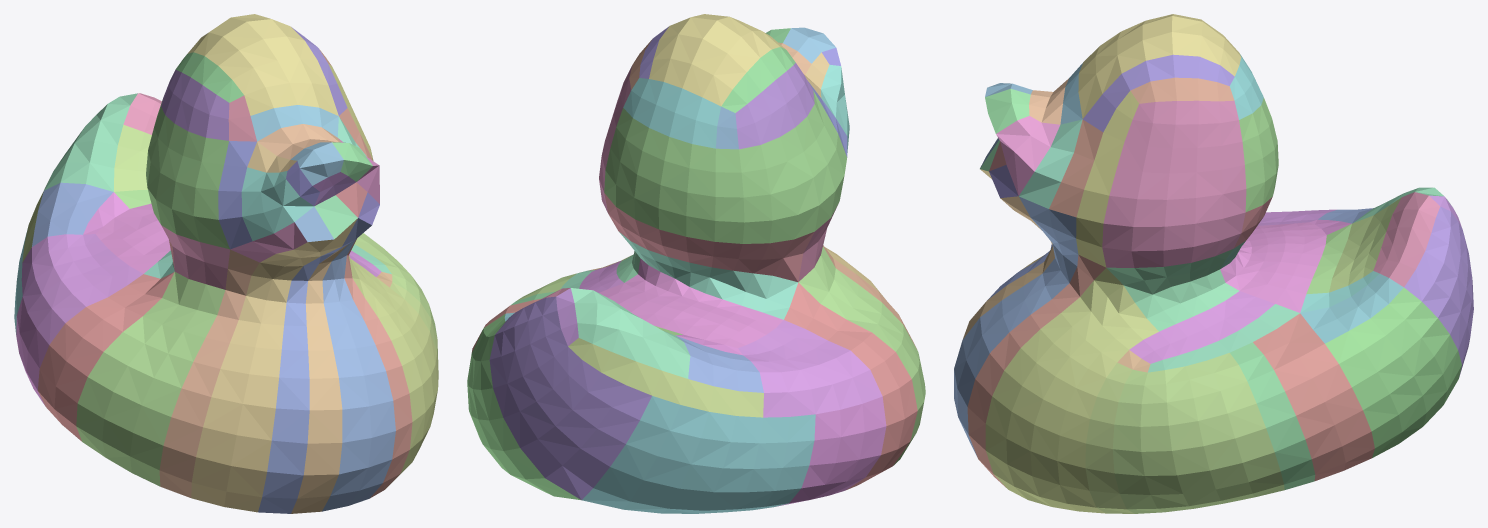
Rendered from duck_patch_color.obj.
3 renders of one model, left to right at view 1: azimuth 30°, elevation 25°; view 2: azimuth 150°, elevation 25°; view 3: azimuth 270°, elevation 25°, orthographic. The views are drawn at different scales.
Size of the model in its own units: 70.29 by 79.51 by 82.82.
